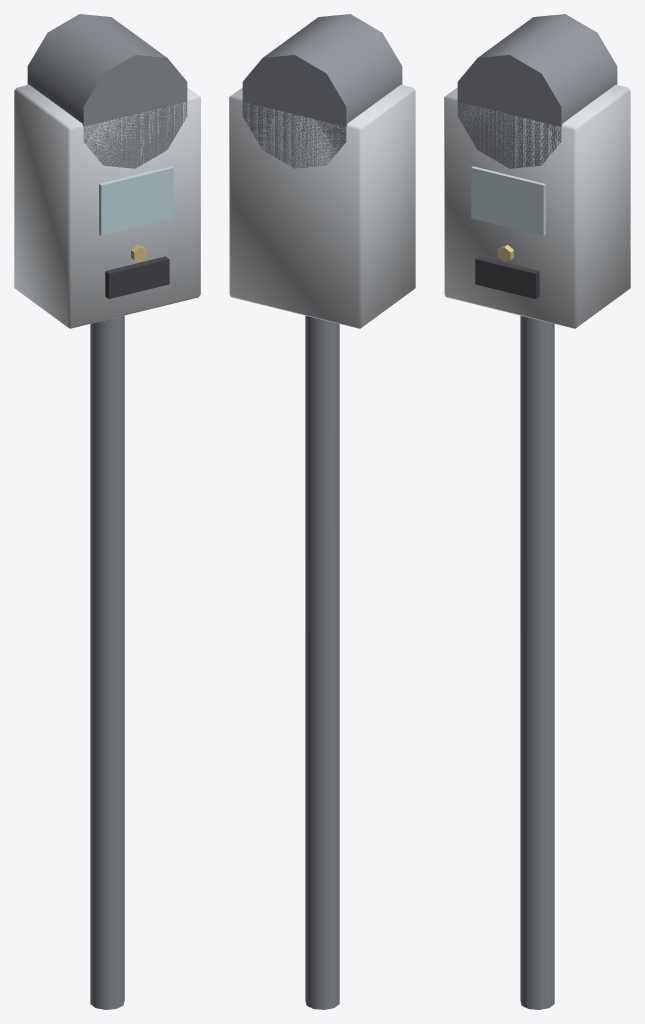
The model's file is ParkingMeter.fbx.
The picture shows the model from 3 angles, left to right: view 1: azimuth 30°, elevation 25°; view 2: azimuth 150°, elevation 25°; view 3: azimuth 330°, elevation 25°; orthographic projection.
Parts seen in each view (by area): view 1: LOD0; view 2: LOD0; view 3: LOD0.
Part boxes in pixels (x1,y1,x2,y2): LOD0: (14, 14, 200, 1009); LOD0: (229, 14, 415, 1009); LOD0: (444, 14, 630, 1009).
Size of what is drawn, in the model's own units: 22 by 153 by 17.5.
